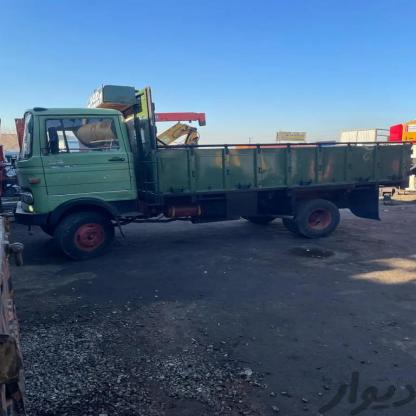Truck: (0, 103, 416, 241)
